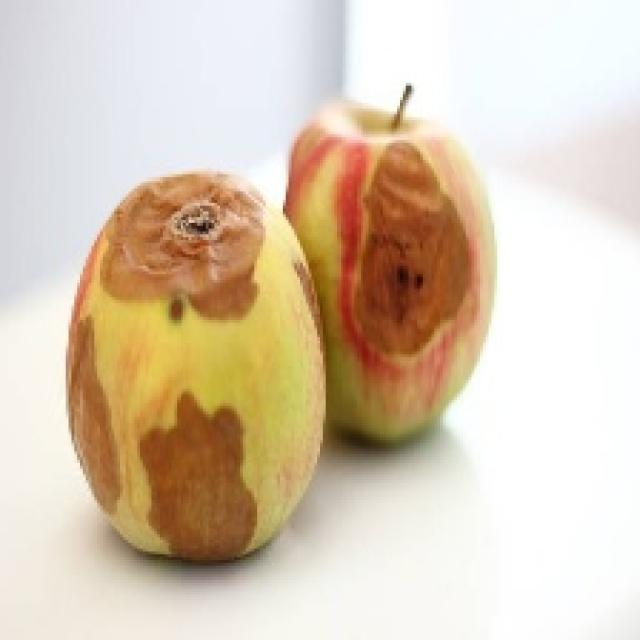rotten_apple: (68, 176, 322, 552), (300, 103, 491, 436)
